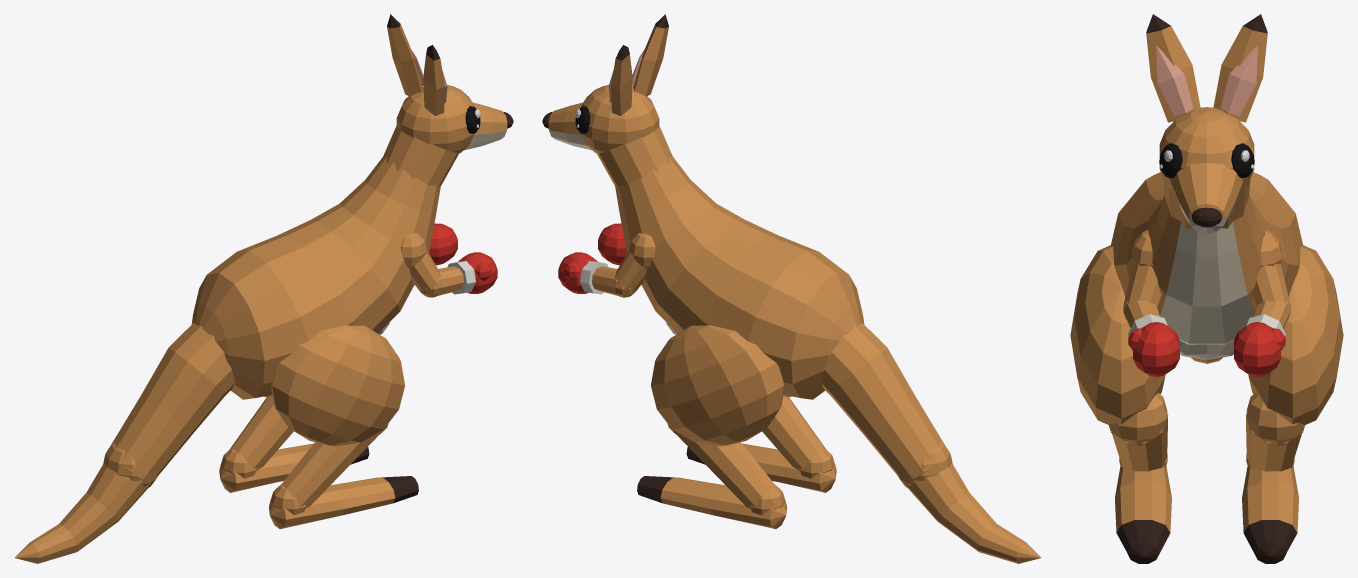
File: kangaroo.glb
3 renders of one model, left to right at view 1: azimuth 30°, elevation 25°; view 2: azimuth 150°, elevation 25°; view 3: azimuth 270°, elevation 25°, orthographic. The views are drawn at different scales.
Visible parts, largest first — view 1: body, leg_r, head, tail, tail_2, leg_l, arm_r, arm_l; view 2: body, leg_l, head, tail, tail_2, leg_r, arm_l, arm_r; view 3: body, leg_l, leg_r, head, arm_l, arm_r.
Part boxes in pixels (x1,y1,x2,y2): body: [191, 157, 440, 399]; leg_r: [269, 325, 418, 529]; head: [382, 14, 513, 188]; tail: [108, 322, 235, 484]; tail_2: [14, 443, 158, 563]; leg_l: [219, 394, 369, 492]; arm_r: [400, 233, 497, 297]; arm_l: [429, 223, 457, 265]; body: [615, 157, 864, 399]; leg_l: [637, 325, 786, 529]; head: [542, 14, 673, 188]; tail: [820, 322, 947, 484]; tail_2: [897, 443, 1041, 563]; leg_r: [686, 394, 836, 492]; arm_l: [558, 233, 655, 297]; arm_r: [598, 223, 626, 265]; body: [1110, 172, 1303, 360]; leg_l: [1242, 245, 1343, 563]; leg_r: [1070, 245, 1171, 563]; head: [1146, 14, 1267, 233]; arm_l: [1234, 230, 1290, 376]; arm_r: [1123, 230, 1179, 376].
Size of the model in its own units: 2.32 by 1.96 by 0.86.
